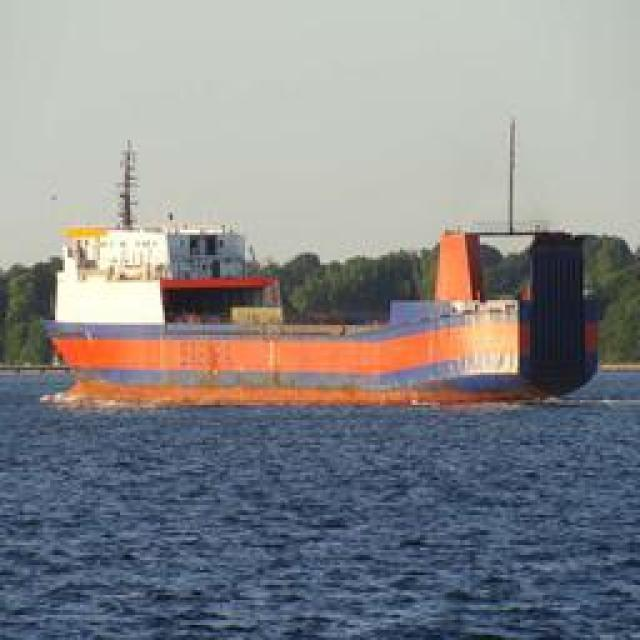CIV_Ship: (36, 235, 602, 408)
